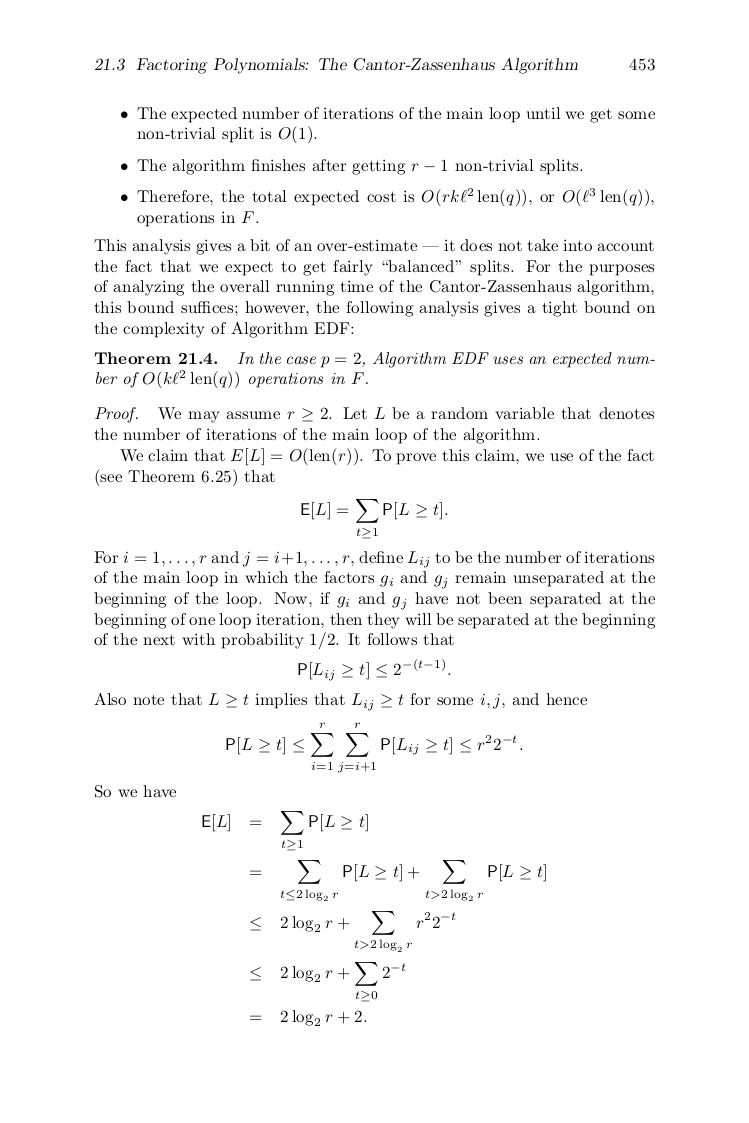formula: (226, 722, 522, 772), (250, 860, 545, 900), (250, 911, 455, 951), (202, 811, 367, 850), (250, 962, 405, 1001), (301, 499, 447, 538), (298, 658, 450, 681), (250, 1008, 366, 1026)
